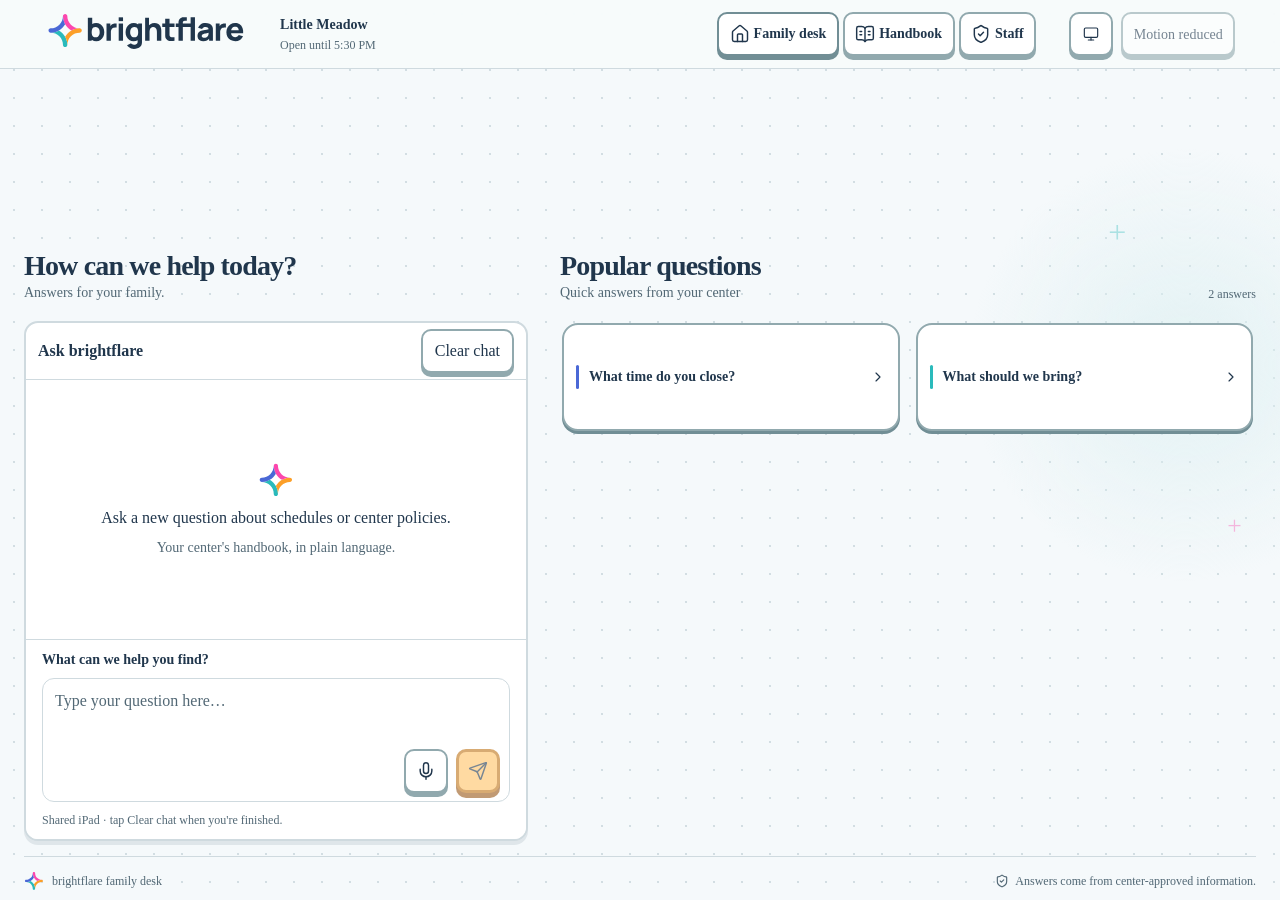
Test: parent front desk › expands the full FAQ answer in place on mobile without sending it to chat
Click the button "What time do you close?" at coordinates (731, 377), box left=564, top=325, right=898, bottom=429
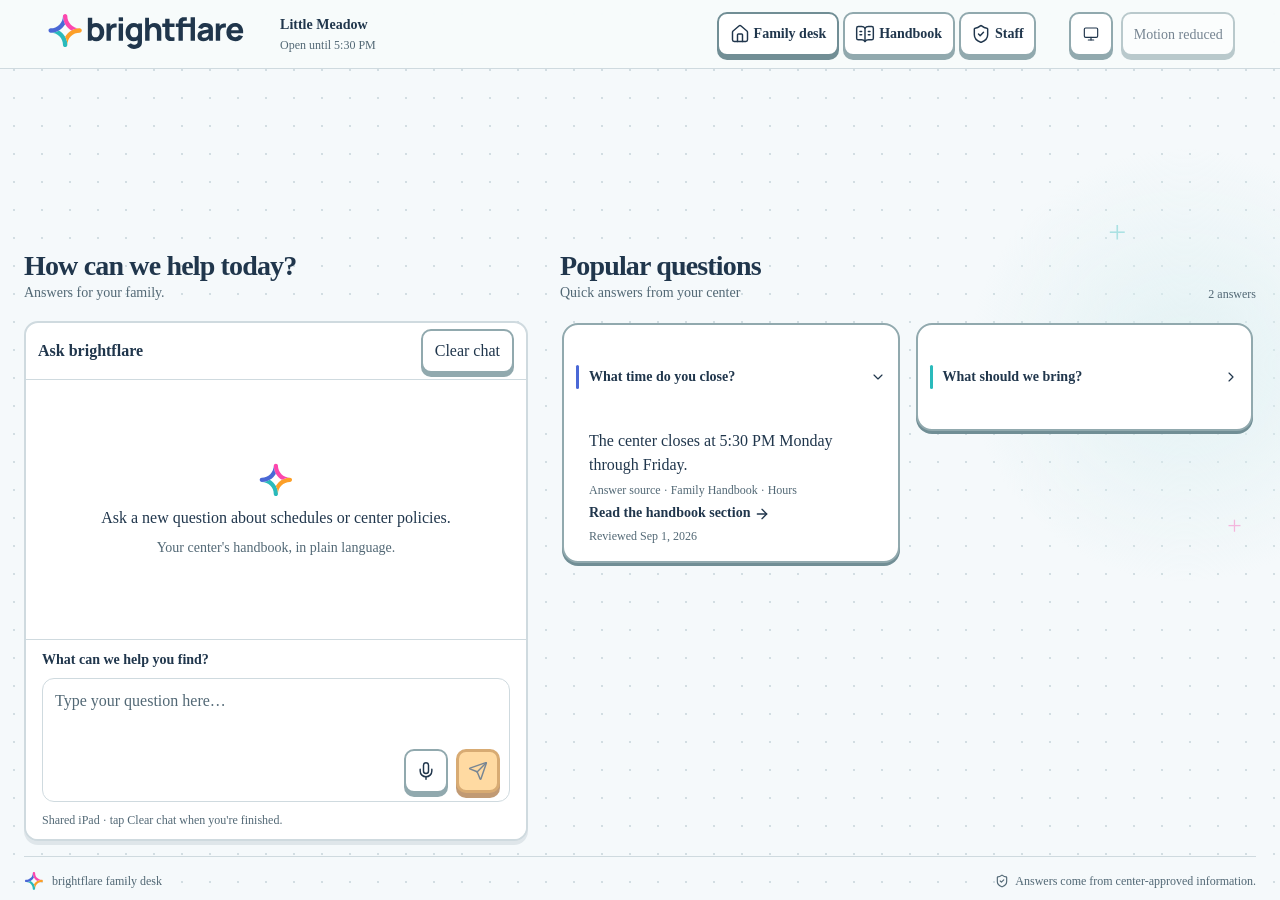
Expected: the heading "Popular questions" is shown, left=560, top=249, right=761, bottom=283
Now the button "What time do you close?" is expanded, box left=564, top=325, right=898, bottom=429
Now the text "The center closes at 5:30 PM Monday through Friday." is shown, box left=589, top=432, right=832, bottom=473
